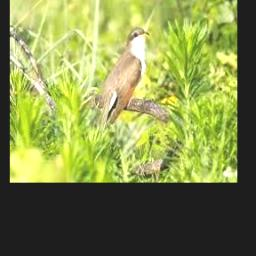Cuckoo: (98, 27, 150, 132)
